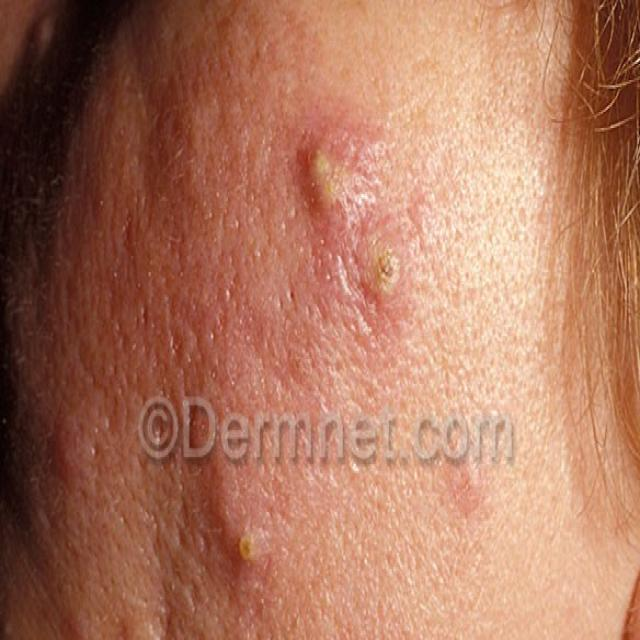Acne: (69, 87, 539, 640)
